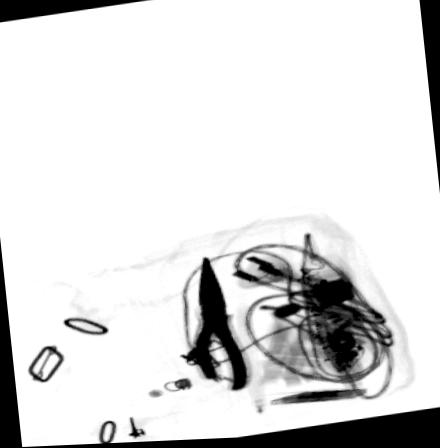Pliers: (190, 258, 255, 394)
